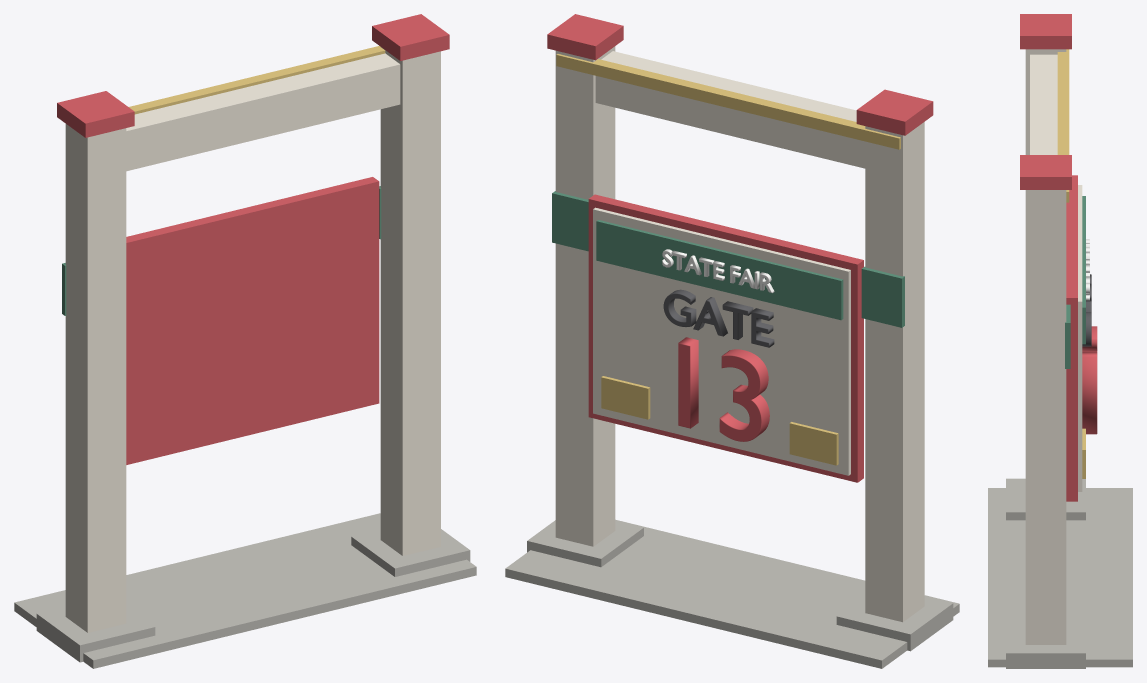
The model's file is state-fair-gate-13.glb.
3 views of the same model, side by side, from view 1: azimuth 30°, elevation 25°; view 2: azimuth 150°, elevation 25°; view 3: azimuth 270°, elevation 25° (orthographic). The views are drawn at different scales.
Visible parts, largest first — view 1: SFG_SignBack, SFG_PostL, SFG_PostR, SFG_Pad, SFG_HeaderBeam, SFG_FootingL, SFG_FootingR, SFG_PostCapL, SFG_PostCapR, SFG_HeaderAccent; view 2: SFG_SignFace, SFG_PostL, SFG_Pad, SFG_PostR, SFG_HeaderBeam, SFG_Ribbon, SFG_SignBack, SFG_HeaderAccent, SFG_GateNumber, SFG_FootingL, SFG_GateLabel, SFG_FootingR (+7 smaller); view 3: SFG_PostR, SFG_Pad, SFG_SignBack, SFG_FootingR, SFG_HeaderBeam, SFG_PostCapL, SFG_PostCapR, SFG_GateNumber, SFG_SignFace, SFG_HeaderAccent, SFG_FootingL, SFG_PostL (+4 smaller).
Boxes of the visible parts, <box> form: SFG_SignBack: <box>126,177,379,464</box>; SFG_PostL: <box>65,124,126,632</box>; SFG_PostR: <box>380,47,440,555</box>; SFG_Pad: <box>14,513,476,668</box>; SFG_HeaderBeam: <box>126,53,400,171</box>; SFG_FootingL: <box>36,606,155,662</box>; SFG_FootingR: <box>351,529,470,576</box>; SFG_PostCapL: <box>57,91,134,137</box>; SFG_PostCapR: <box>372,14,449,60</box>; SFG_HeaderAccent: <box>129,46,385,114</box>; SFG_SignFace: <box>593,207,850,475</box>; SFG_PostL: <box>865,122,924,622</box>; SFG_Pad: <box>505,519,959,668</box>; SFG_PostR: <box>555,46,615,546</box>; SFG_HeaderBeam: <box>595,51,865,168</box>; SFG_Ribbon: <box>596,220,843,320</box>; SFG_SignBack: <box>588,194,863,482</box>; SFG_HeaderAccent: <box>556,54,900,149</box>; SFG_GateNumber: <box>678,337,769,441</box>; SFG_FootingL: <box>836,596,953,651</box>; SFG_GateLabel: <box>663,289,774,347</box>; SFG_FootingR: <box>527,520,643,567</box>; SFG_PostR: <box>1025,190,1066,644</box>; SFG_Pad: <box>988,488,1132,667</box>; SFG_SignBack: <box>1066,175,1077,501</box>; SFG_FootingR: <box>1006,619,1085,668</box>; SFG_HeaderBeam: <box>1030,54,1057,154</box>; SFG_PostCapL: <box>1020,14,1071,49</box>; SFG_PostCapR: <box>1020,155,1071,189</box>; SFG_GateNumber: <box>1082,326,1097,434</box>; SFG_SignFace: <box>1078,185,1082,491</box>; SFG_HeaderAccent: <box>1057,49,1069,202</box>; SFG_FootingL: <box>1006,478,1085,520</box>; SFG_PostL: <box>1025,49,1066,154</box>.
Size of the model in its own units: 2.85 by 3.7 by 1.
